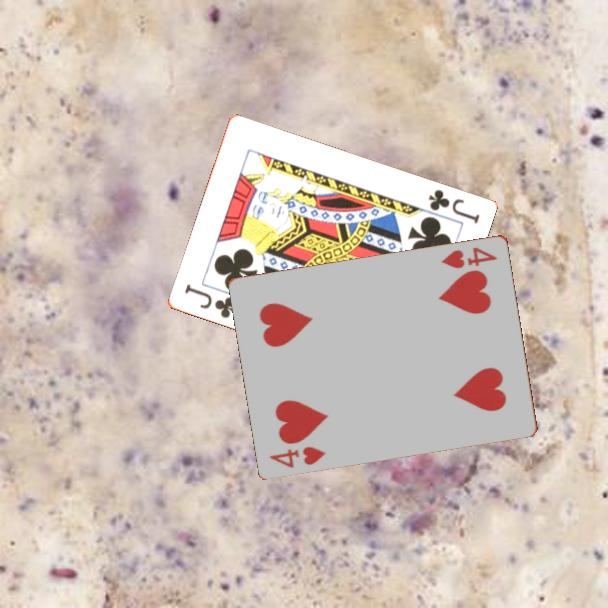c11: (424, 186, 482, 227), (181, 281, 239, 321)
h04: (266, 442, 329, 470), (438, 243, 500, 271)
